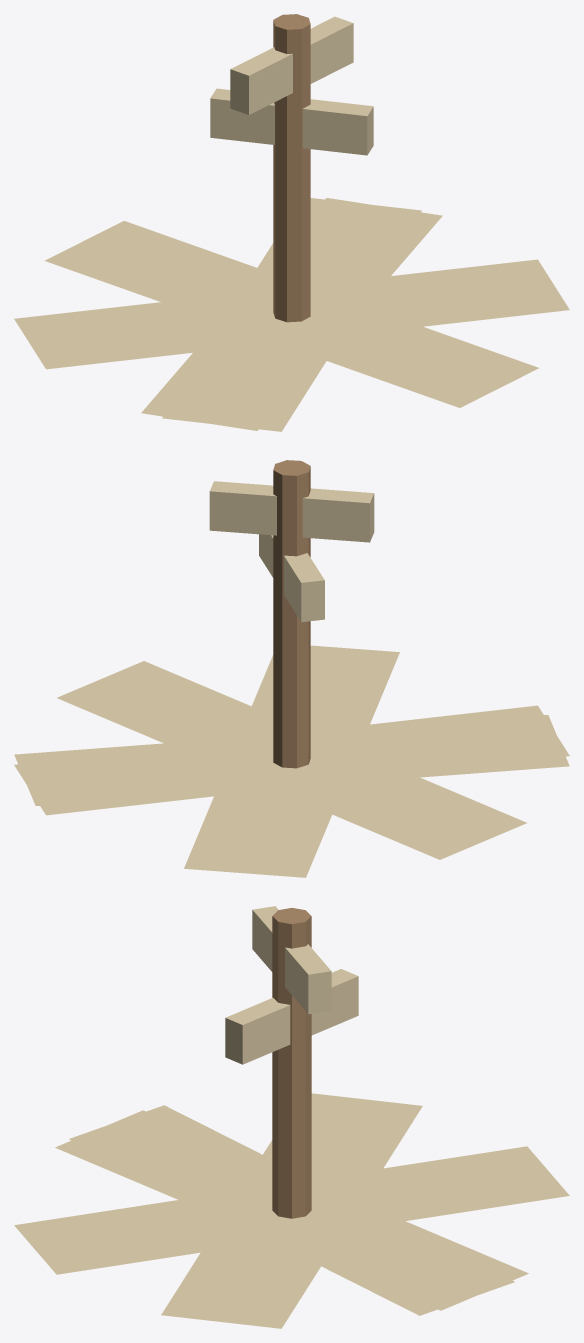
Rendered from four_paths.glb.
The picture shows the model from 3 angles, top to bottom: view 1: azimuth 30°, elevation 25°; view 2: azimuth 150°, elevation 25°; view 3: azimuth 270°, elevation 25°; orthographic projection.
Parts seen in each view (by area): view 1: Vier_Wege_Pfad_0, Vier_Wege_Pfad_1, Vier_Wege_Pfad_2, Vier_Wege_Pfad_3, Vier_Wege_Schild, Vier_Wege_Brett_1, Vier_Wege_Brett_0; view 2: Vier_Wege_Pfad_1, Vier_Wege_Pfad_2, Vier_Wege_Pfad_0, Vier_Wege_Pfad_3, Vier_Wege_Schild, Vier_Wege_Brett_0, Vier_Wege_Brett_1; view 3: Vier_Wege_Pfad_2, Vier_Wege_Pfad_1, Vier_Wege_Pfad_0, Vier_Wege_Pfad_3, Vier_Wege_Schild, Vier_Wege_Brett_1, Vier_Wege_Brett_0.
Boxes of the visible parts, left/top/right/bottom form: Vier_Wege_Pfad_0: left=44, top=221, right=538, bottom=407; Vier_Wege_Pfad_1: left=14, top=259, right=569, bottom=369; Vier_Wege_Pfad_2: left=141, top=198, right=442, bottom=430; Vier_Wege_Pfad_3: left=162, top=198, right=421, bottom=431; Vier_Wege_Schild: left=273, top=14, right=310, bottom=322; Vier_Wege_Brett_1: left=210, top=88, right=373, bottom=155; Vier_Wege_Brett_0: left=230, top=16, right=353, bottom=114; Vier_Wege_Pfad_1: left=57, top=661, right=526, bottom=859; Vier_Wege_Pfad_2: left=14, top=715, right=569, bottom=805; Vier_Wege_Pfad_0: left=184, top=645, right=399, bottom=877; Vier_Wege_Pfad_3: left=14, top=705, right=569, bottom=815; Vier_Wege_Schild: left=273, top=460, right=310, bottom=768; Vier_Wege_Brett_0: left=209, top=481, right=374, bottom=542; Vier_Wege_Brett_1: left=259, top=534, right=324, bottom=622; Vier_Wege_Pfad_2: left=69, top=1105, right=514, bottom=1315; Vier_Wege_Pfad_1: left=161, top=1093, right=422, bottom=1328; Vier_Wege_Pfad_0: left=14, top=1146, right=569, bottom=1274; Vier_Wege_Pfad_3: left=55, top=1110, right=528, bottom=1310; Vier_Wege_Schild: left=272, top=908, right=311, bottom=1218; Vier_Wege_Brett_1: left=225, top=969, right=358, bottom=1064; Vier_Wege_Brett_0: left=252, top=906, right=331, bottom=1014.
Size of the model in its own units: 1.44 by 0.85 by 1.43.
